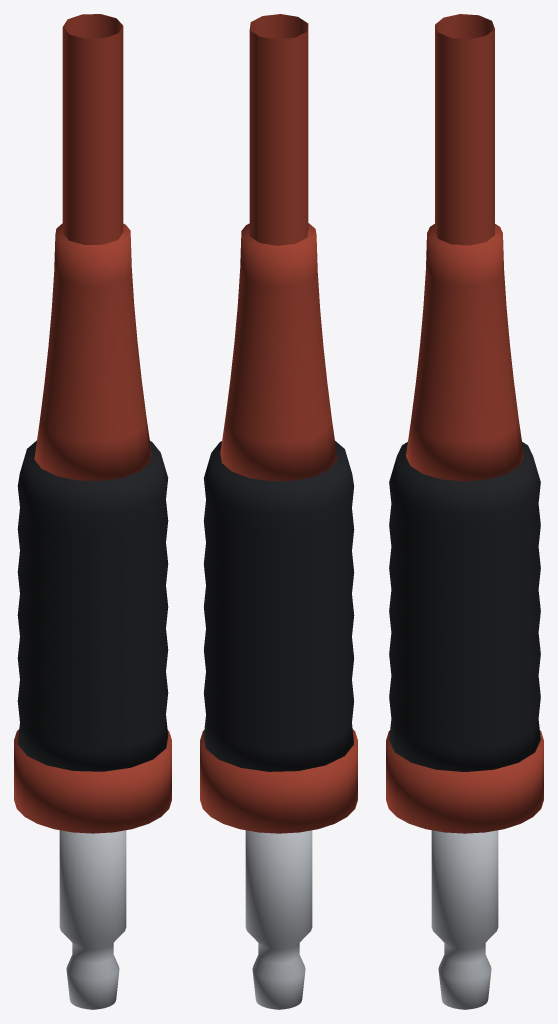
The model's file is patch_plug.glb.
3 views of the same model, side by side, from view 1: azimuth 30°, elevation 25°; view 2: azimuth 150°, elevation 25°; view 3: azimuth 270°, elevation 25° (orthographic).
Visible parts, largest first — view 1: PatchCable_Body, PatchCable_Relief, PatchCable_Stub, PatchCable_Sleeve, PatchCable_Collar; view 2: PatchCable_Body, PatchCable_Relief, PatchCable_Stub, PatchCable_Sleeve, PatchCable_Collar; view 3: PatchCable_Body, PatchCable_Relief, PatchCable_Stub, PatchCable_Sleeve, PatchCable_Collar.
Part boxes in pixels (x1,y1,x2,y2): PatchCable_Body: (17, 440, 168, 771); PatchCable_Relief: (34, 223, 151, 480); PatchCable_Stub: (62, 14, 123, 244); PatchCable_Sleeve: (59, 830, 126, 1009); PatchCable_Collar: (14, 729, 171, 833); PatchCable_Body: (203, 441, 354, 771); PatchCable_Relief: (220, 223, 337, 481); PatchCable_Stub: (249, 14, 308, 245); PatchCable_Sleeve: (245, 830, 312, 1009); PatchCable_Collar: (200, 729, 357, 833); PatchCable_Body: (389, 442, 540, 771); PatchCable_Relief: (406, 224, 523, 481); PatchCable_Stub: (435, 14, 494, 245); PatchCable_Sleeve: (431, 830, 498, 1009); PatchCable_Collar: (386, 730, 543, 833).
Size of the model in its own units: 0.0832 by 0.572 by 0.0832.
